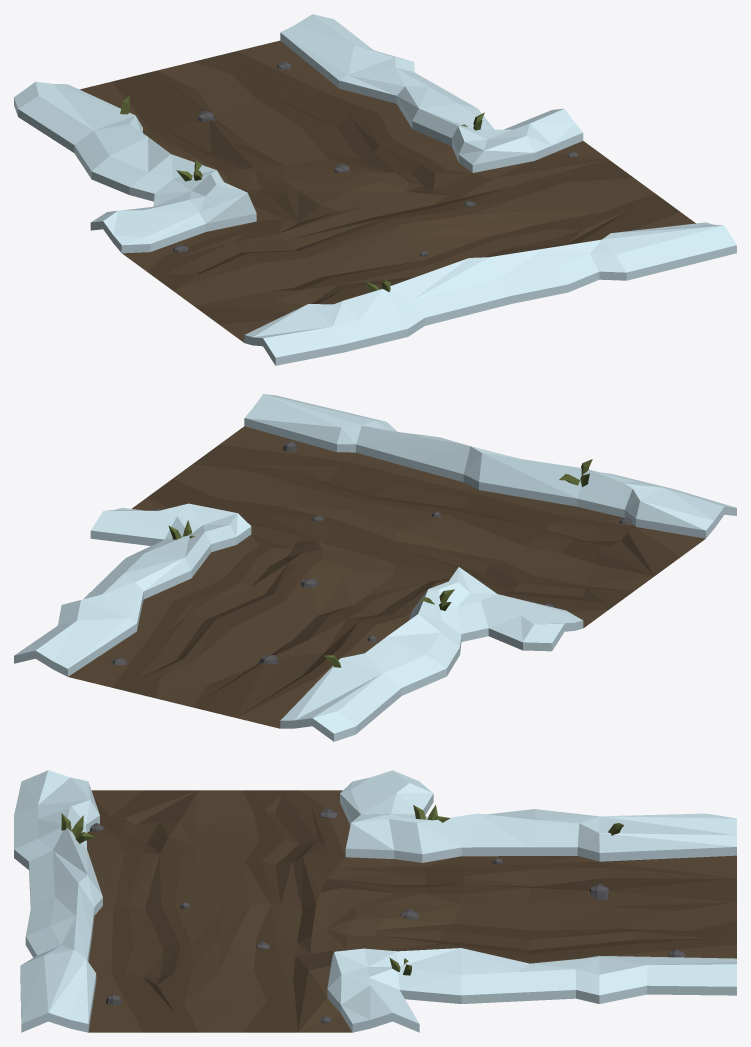
File: SM_Env_Road_T_01_Snow.gltf
3 renders of one model, top to bottom at view 1: azimuth 30°, elevation 25°; view 2: azimuth 150°, elevation 25°; view 3: azimuth 270°, elevation 25°, orthographic. The views are drawn at different scales.
Parts seen in each view (by area): view 1: SM_Env_Road_T_01_Snow; view 2: SM_Env_Road_T_01_Snow; view 3: SM_Env_Road_T_01_Snow.
Part boxes in pixels (box(x1,y1,x2,y2)): SM_Env_Road_T_01_Snow: box(14, 14, 736, 365); SM_Env_Road_T_01_Snow: box(14, 394, 736, 741); SM_Env_Road_T_01_Snow: box(14, 770, 736, 1032).
Size of the model in its own units: 5 by 0.4868 by 6.3.
Materials: 1 (1 with a texture image).
